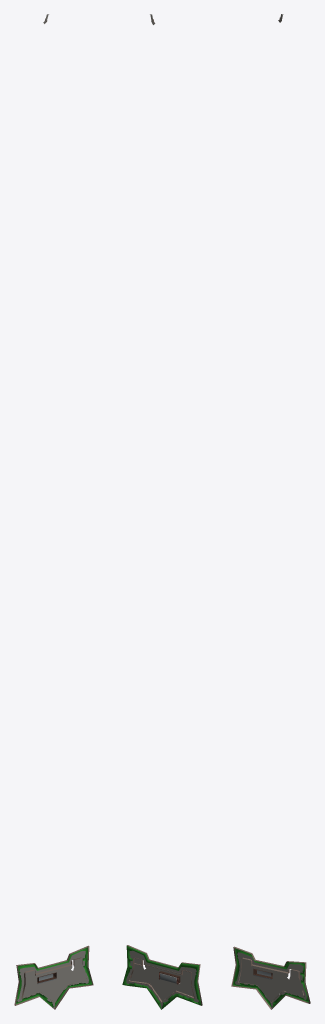
3 renders of one model, left to right at view 1: azimuth 30°, elevation 25°; view 2: azimuth 150°, elevation 25°; view 3: azimuth 330°, elevation 25°, orthographic.
Parts seen in each view (by area): view 1: Mesh, Grass_Upper, Ground_Upper, Wall_Outer, WallGreen; view 2: Mesh, Grass_Upper, Ground_Upper, WallGreen, Wall_Outer; view 3: Mesh, Grass_Upper, Ground_Upper, Wall_Outer.
Boxes of the visible parts, x1=… form: Mesh: x1=23, y1=958, x2=87, y2=1002; Grass_Upper: x1=16, y1=947, x2=91, y2=1007; Ground_Upper: x1=17, y1=951, x2=88, y2=1008; Wall_Outer: x1=14, y1=945, x2=93, y2=1009; WallGreen: x1=21, y1=957, x2=82, y2=1002; Mesh: x1=129, y1=958, x2=193, y2=1001; Grass_Upper: x1=122, y1=946, x2=201, y2=1009; Ground_Upper: x1=126, y1=951, x2=198, y2=1008; WallGreen: x1=128, y1=957, x2=194, y2=1002; Wall_Outer: x1=122, y1=945, x2=202, y2=1009; Mesh: x1=239, y1=958, x2=303, y2=1002; Grass_Upper: x1=233, y1=948, x2=308, y2=1007; Ground_Upper: x1=235, y1=952, x2=306, y2=1008; Wall_Outer: x1=231, y1=946, x2=310, y2=1009.
Size of the model in its own units: 2.54 by 0.5455 by 30.64.
